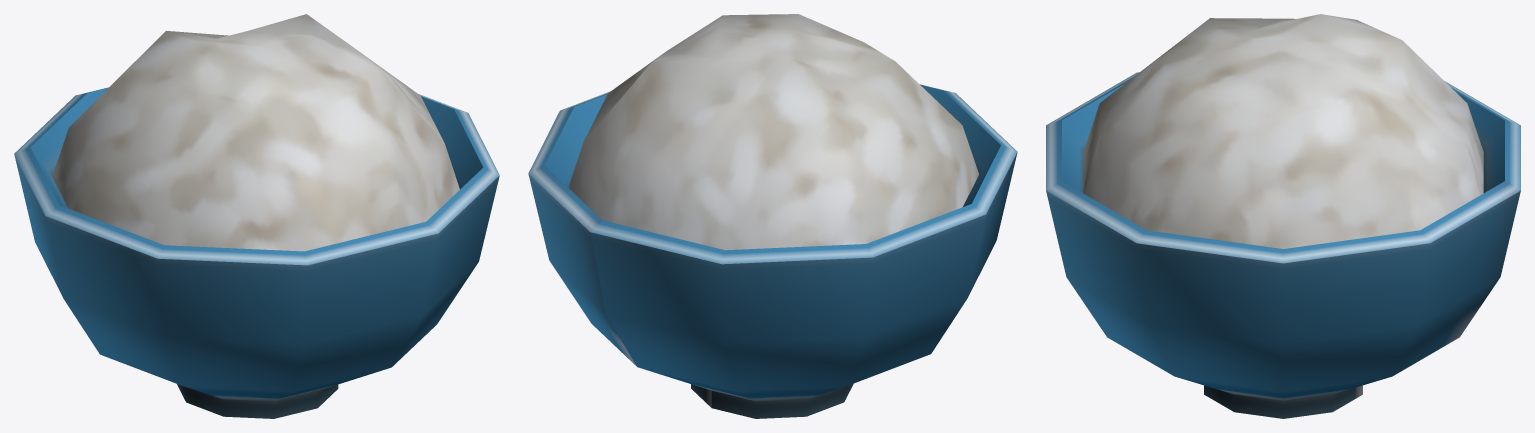
Rendered from Rice_Bowl.fbx.
3 renders of one model, left to right at view 1: azimuth 30°, elevation 25°; view 2: azimuth 150°, elevation 25°; view 3: azimuth 270°, elevation 25°, orthographic. The views are drawn at different scales.
Parts seen in each view (by area): view 1: Rice_Bowl; view 2: Rice_Bowl; view 3: Rice_Bowl.
Part boxes in pixels (x1,y1,x2,y2): Rice_Bowl: (14,14,499,418); Rice_Bowl: (528,14,1017,418); Rice_Bowl: (1046,14,1520,418).
Bounding box in the file's own units: 210 × 162 × 200.
